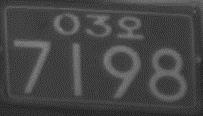0: (52, 12, 79, 36)
1: (61, 42, 94, 97)
3: (84, 12, 113, 38)
7: (12, 38, 51, 95)
8: (148, 46, 188, 102)
9: (102, 44, 142, 100)
오: (115, 14, 144, 40)
